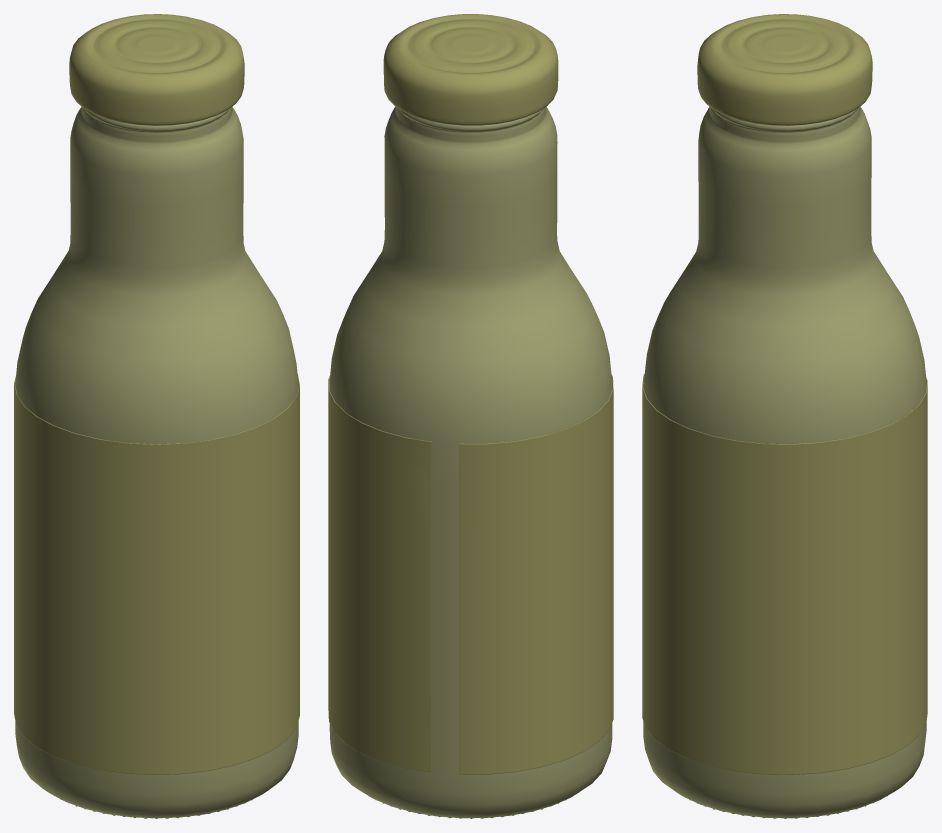
Rendered from hatsu_amarillo.fbx.
3 views of the same model, side by side, from view 1: azimuth 30°, elevation 25°; view 2: azimuth 150°, elevation 25°; view 3: azimuth 270°, elevation 25° (orthographic).
Parts seen in each view (by area): view 1: Bottle; view 2: Bottle; view 3: Bottle.
Part boxes in pixels (x1=…): Bottle: x1=14, y1=14, x2=299, y2=818; Bottle: x1=328, y1=14, x2=613, y2=818; Bottle: x1=642, y1=14, x2=927, y2=818.
Bounding box in the file's own units: 6.6 × 18.42 × 6.6.
